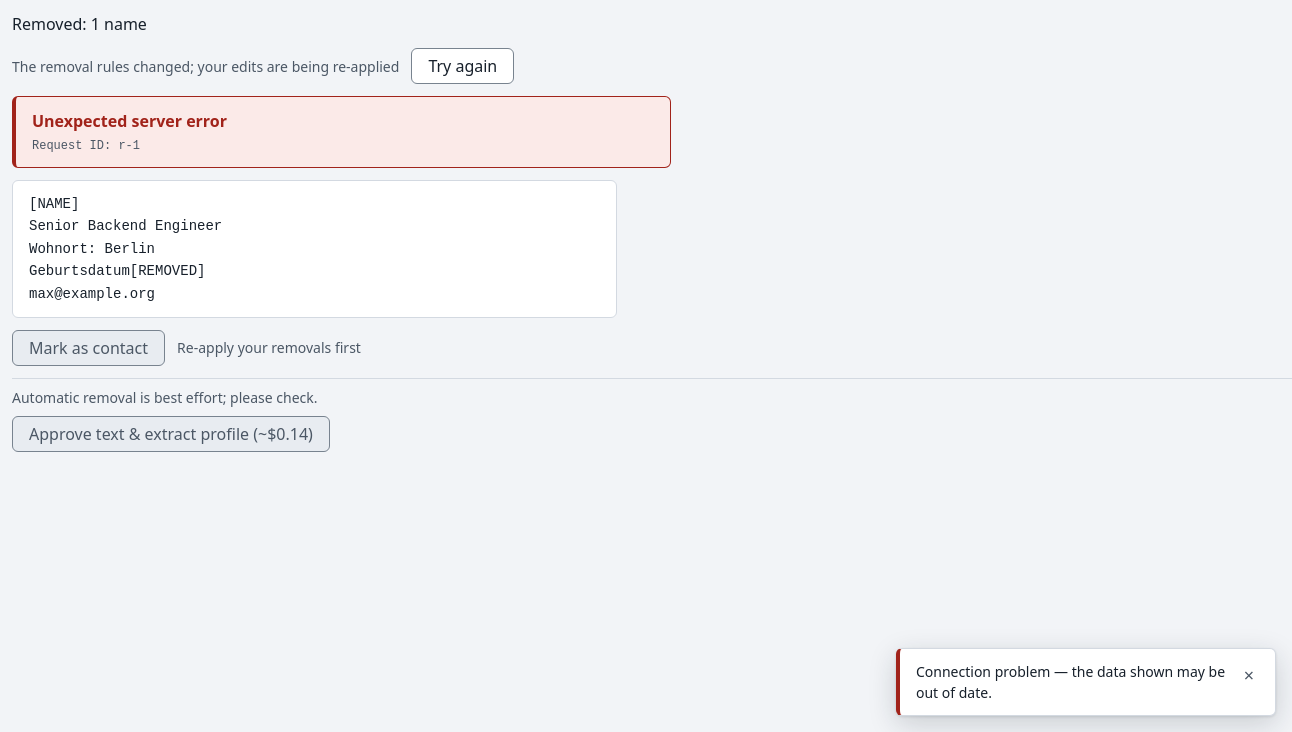
Test: TextReview › a failed re-send offers Try again, and shows its problem
expect the message "Unexpected server error Request ID: r-1" is shown: met, box [12,96,671,168]
expect the button "Mark as contact" is disabled: met, box [12,330,165,366]
Click the button "Try again" at (463, 66), box [411,48,514,84]
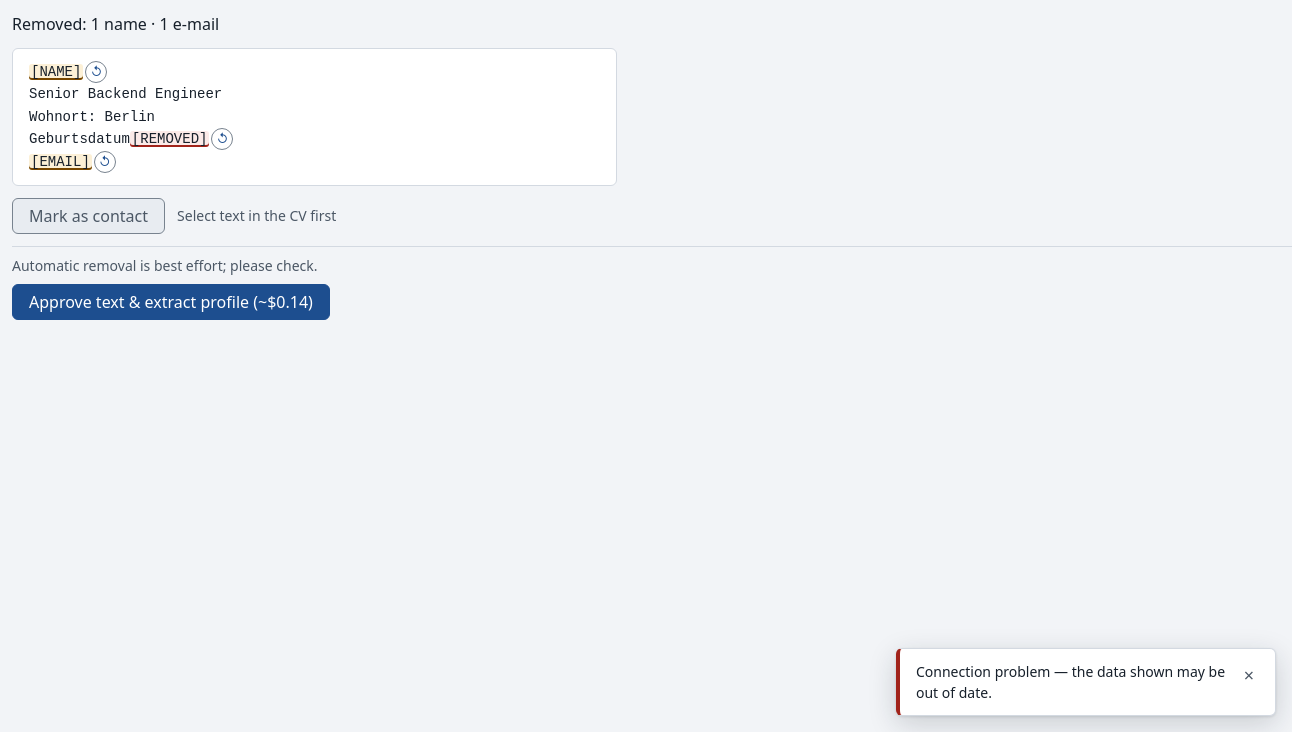
expect the text "The removal rules changed; your edits are being re-applied" is gone: met
